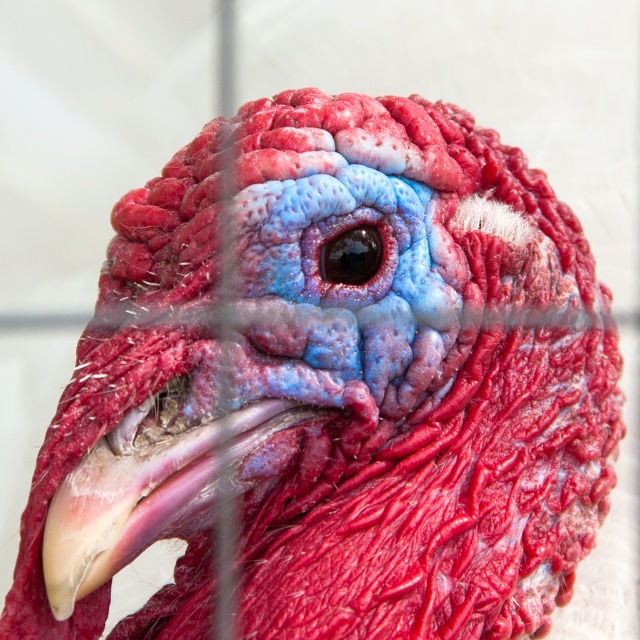Turkey: (0, 87, 627, 640)
